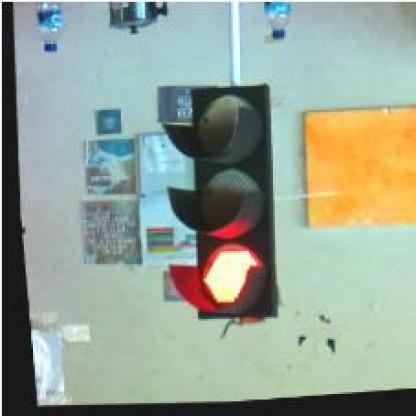green: (148, 83, 284, 328)
